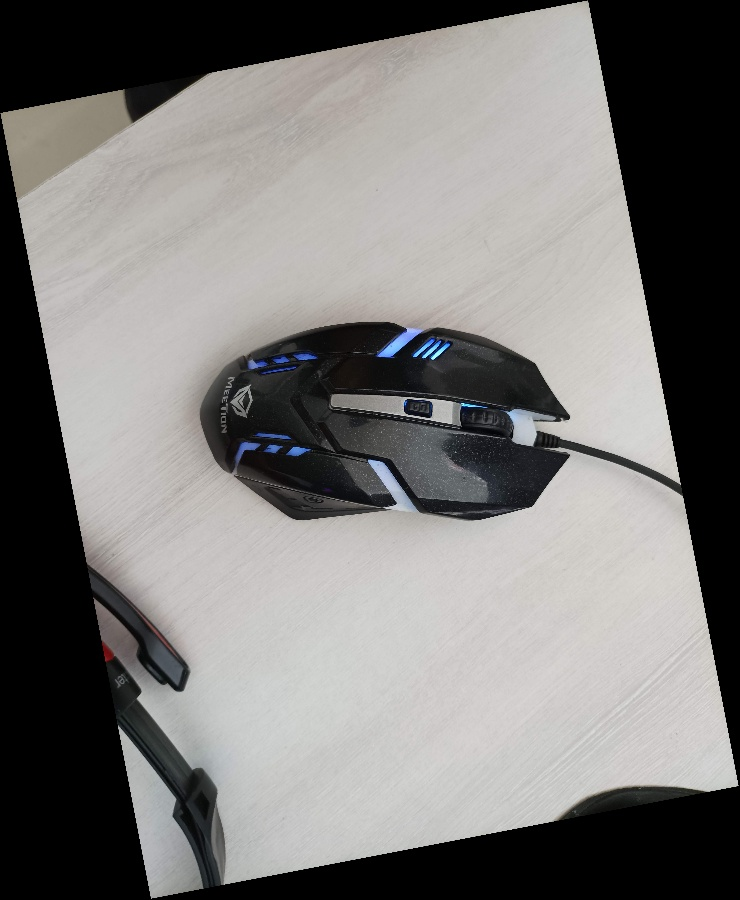mouse: (188, 310, 587, 534)
